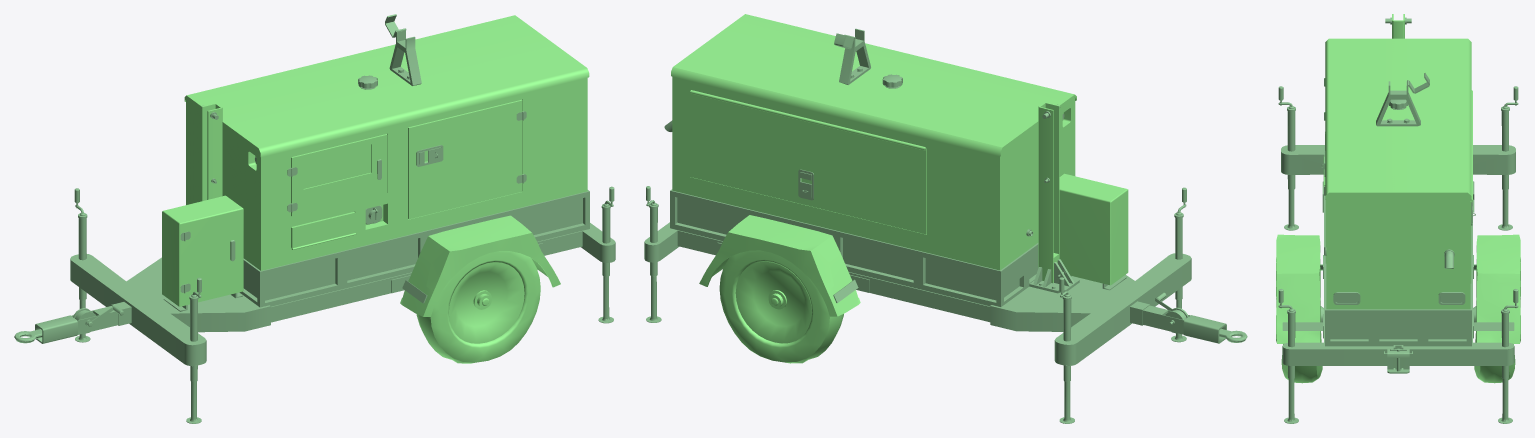
File: SM_LightGenerator_01b.FBX
3 renders of one model, left to right at view 1: azimuth 30°, elevation 25°; view 2: azimuth 150°, elevation 25°; view 3: azimuth 270°, elevation 25°, orthographic. The views are drawn at different scales.
Parts seen in each view (by area): view 1: SM_LightGenerator_Base_01a_SM_LightGenerator_Base_01a_LOD0; view 2: SM_LightGenerator_Base_01a_SM_LightGenerator_Base_01a_LOD0; view 3: SM_LightGenerator_Base_01a_SM_LightGenerator_Base_01a_LOD0.
Part boxes in pixels (<box>): SM_LightGenerator_Base_01a_SM_LightGenerator_Base_01a_LOD0: <box>14,14,615,423</box>; SM_LightGenerator_Base_01a_SM_LightGenerator_Base_01a_LOD0: <box>644,14,1247,423</box>; SM_LightGenerator_Base_01a_SM_LightGenerator_Base_01a_LOD0: <box>1276,14,1520,423</box>.
Size of what is drawn, in the model's own units: 396 by 204 by 157.
